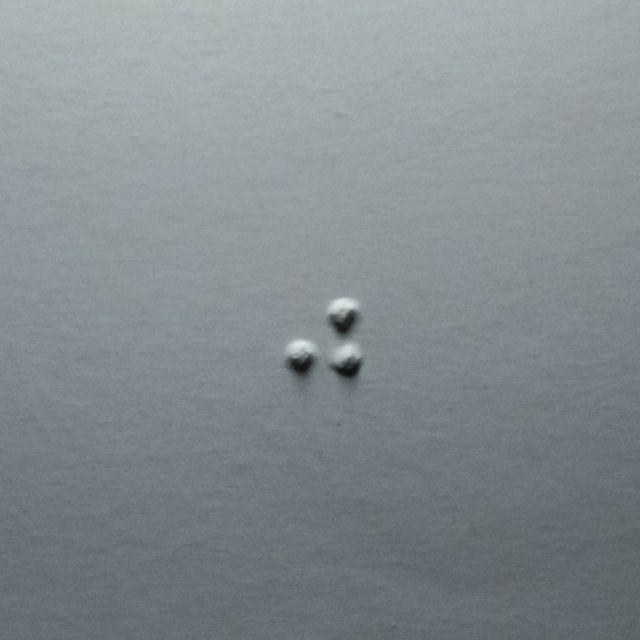hakbang: (287, 296, 364, 425)
